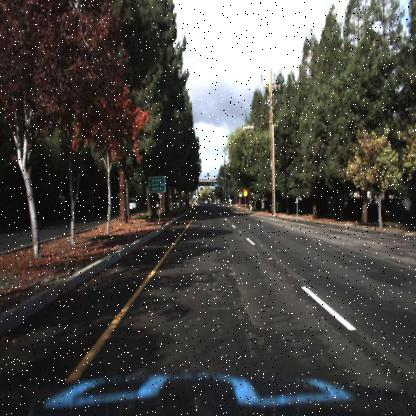car: (126, 198, 140, 217)
